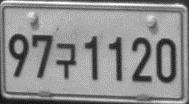0: (156, 37, 177, 83)
1: (82, 33, 99, 81), (108, 34, 123, 82)
2: (130, 36, 153, 83)
7: (31, 33, 53, 80)
9: (7, 33, 29, 78)
구: (54, 42, 77, 80)
